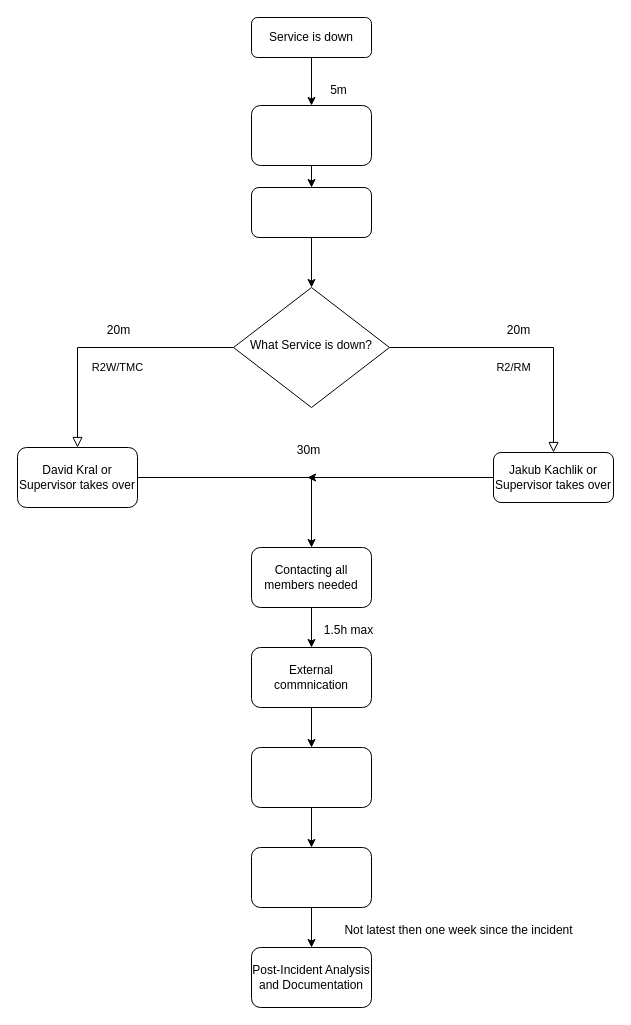
The diagram is 631 pixels wide and 1025 high, and some of its shapes have lost their labels. Each missing label, with the centre of its shape:
Page informing about outage is loaeed on page: point (311, 212)
Regular updates every 2 hourse: point (311, 777)
Service restoration and final communication: point (311, 877)
SMS is sent to all Managers and TMs: point (311, 135)
